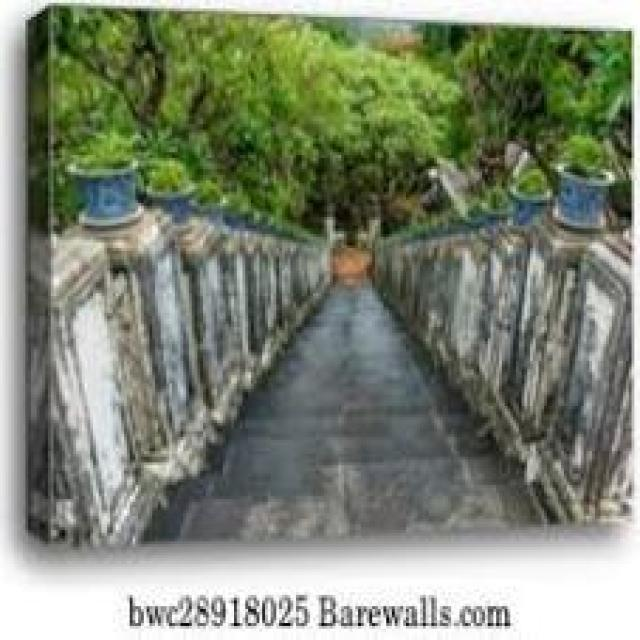stair: (141, 236, 516, 528)
